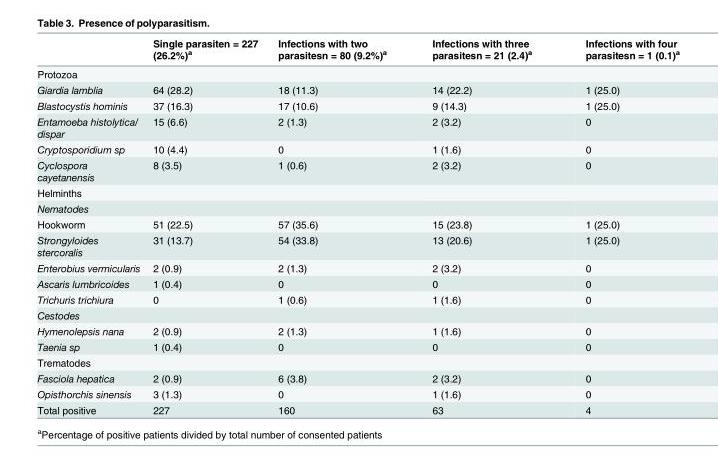table: (36, 36, 678, 415)
table column: (408, 36, 557, 415), (267, 36, 408, 415), (145, 36, 267, 415), (557, 36, 678, 415), (36, 36, 145, 415)
table column header: (36, 36, 678, 64)
table projected row header: (36, 64, 678, 81), (36, 184, 678, 200), (36, 200, 678, 216), (36, 354, 678, 370), (36, 307, 678, 322)
table row: (36, 36, 678, 64), (36, 113, 678, 141), (36, 156, 678, 184), (36, 231, 678, 259), (36, 64, 678, 81), (36, 81, 678, 97), (36, 97, 678, 113), (36, 184, 678, 200), (36, 200, 678, 216), (36, 259, 678, 275), (36, 275, 678, 291), (36, 291, 678, 307), (36, 322, 678, 338), (36, 338, 678, 354), (36, 354, 678, 370), (36, 385, 678, 401), (36, 141, 678, 156), (36, 216, 678, 231), (36, 307, 678, 322), (36, 370, 678, 385), (36, 401, 678, 415)
